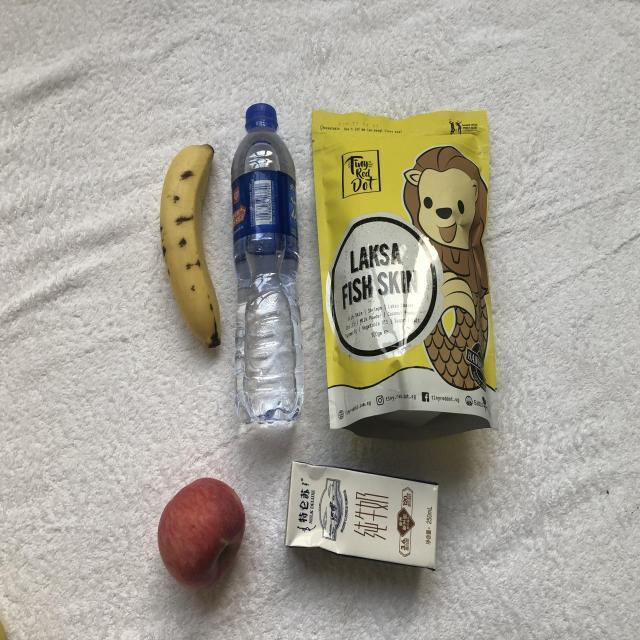Apple: (147, 464, 250, 612)
Banana: (141, 128, 233, 359)
